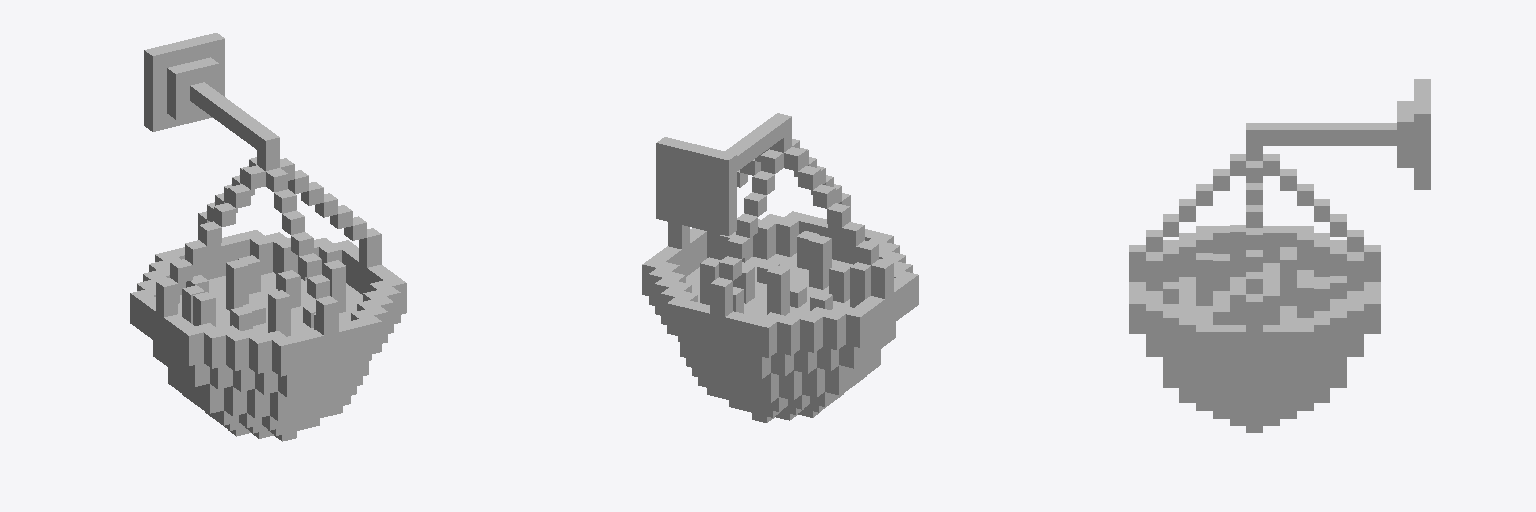
Rendered from Hanging Basket 4 - Seedlings.obj.
3 renders of one model, left to right at view 1: azimuth 30°, elevation 25°; view 2: azimuth 150°, elevation 25°; view 3: azimuth 270°, elevation 25°, orthographic.
Parts seen in each view (by area): view 1: Hanging Basket 4 - Seedlings; view 2: Hanging Basket 4 - Seedlings; view 3: Hanging Basket 4 - Seedlings.
Part boxes in pixels (left/top/right/bottom): Hanging Basket 4 - Seedlings: left=130, top=33, right=406, bottom=441; Hanging Basket 4 - Seedlings: left=642, top=113, right=918, bottom=422; Hanging Basket 4 - Seedlings: left=1129, top=79, right=1430, bottom=432.
Bounding box in the file's own units: 15 × 21 × 18.